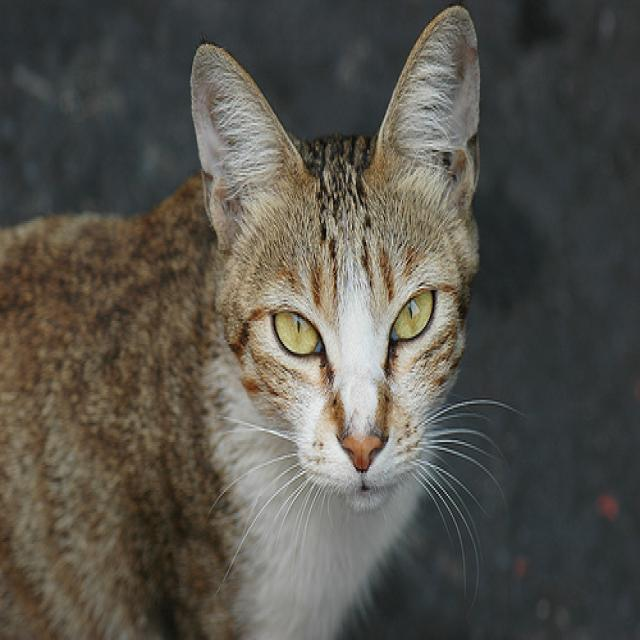left eye: (388, 284, 436, 344)
